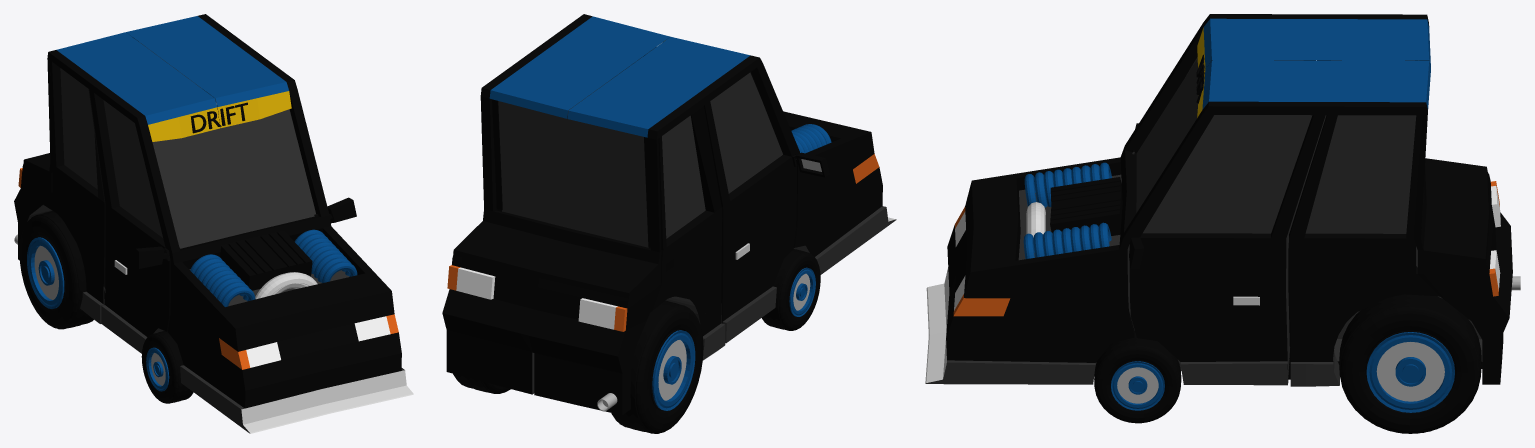
3 renders of one model, left to right at view 1: azimuth 30°, elevation 25°; view 2: azimuth 150°, elevation 25°; view 3: azimuth 270°, elevation 25°, orthographic. The views are drawn at different scales.
Parts seen in each view (by area): view 1: BODY27, WHEEL.002, WHEEL.001, Text; view 2: BODY27, WHEEL.002, WHEEL.001, WHEEL.004; view 3: BODY27, WHEEL.004, WHEEL.003.
Boxes of the visible parts, box(x1,y1,x2,y2) form: BODY27: box(14, 14, 413, 433); WHEEL.002: box(19, 211, 93, 329); WHEEL.001: box(141, 331, 193, 403); Text: box(190, 102, 247, 133); BODY27: box(442, 14, 896, 415); WHEEL.002: box(611, 300, 703, 433); WHEEL.001: box(762, 249, 820, 330); WHEEL.004: box(453, 373, 510, 393); BODY27: box(925, 14, 1512, 386); WHEEL.004: box(1339, 294, 1481, 433); WHEEL.003: box(1094, 337, 1181, 423).
Size of the model in its own units: 136 by 160 by 267.
